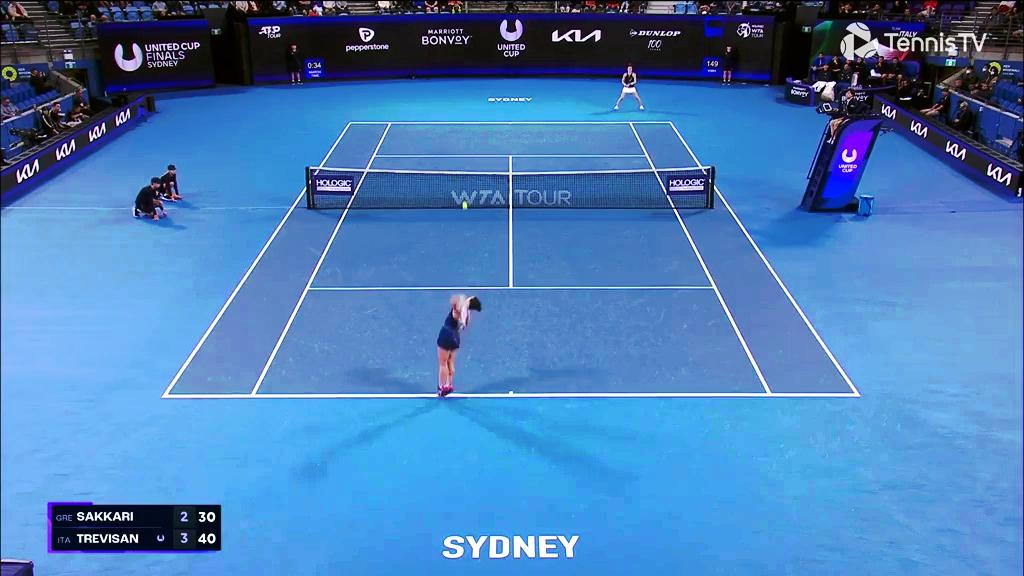tennis-court: (161, 122, 861, 397)
